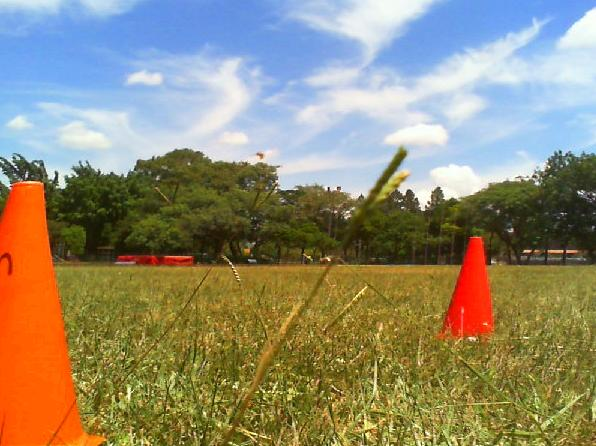0 cone: (0, 180, 105, 446), (436, 236, 493, 340)
